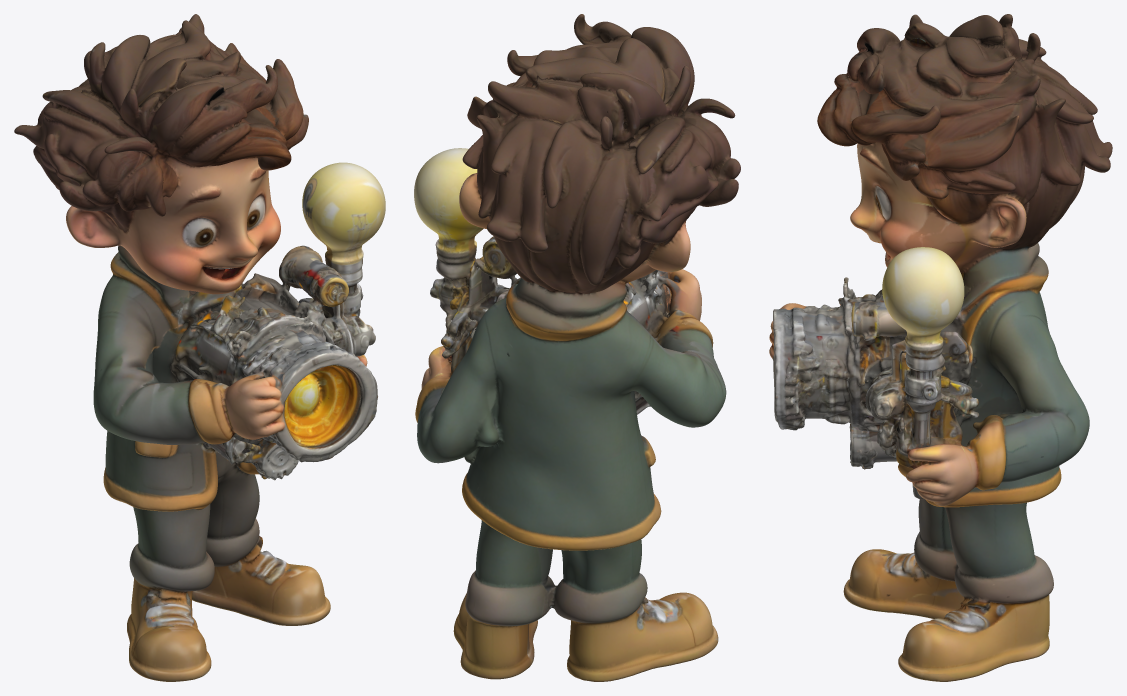
Rendered from invention.glb.
3 views of the same model, side by side, from view 1: azimuth 30°, elevation 25°; view 2: azimuth 150°, elevation 25°; view 3: azimuth 270°, elevation 25° (orthographic). The views are drawn at different scales.
Size of the model in its own units: 36493 by 65565 by 34852.
1 material, 1 textured.
